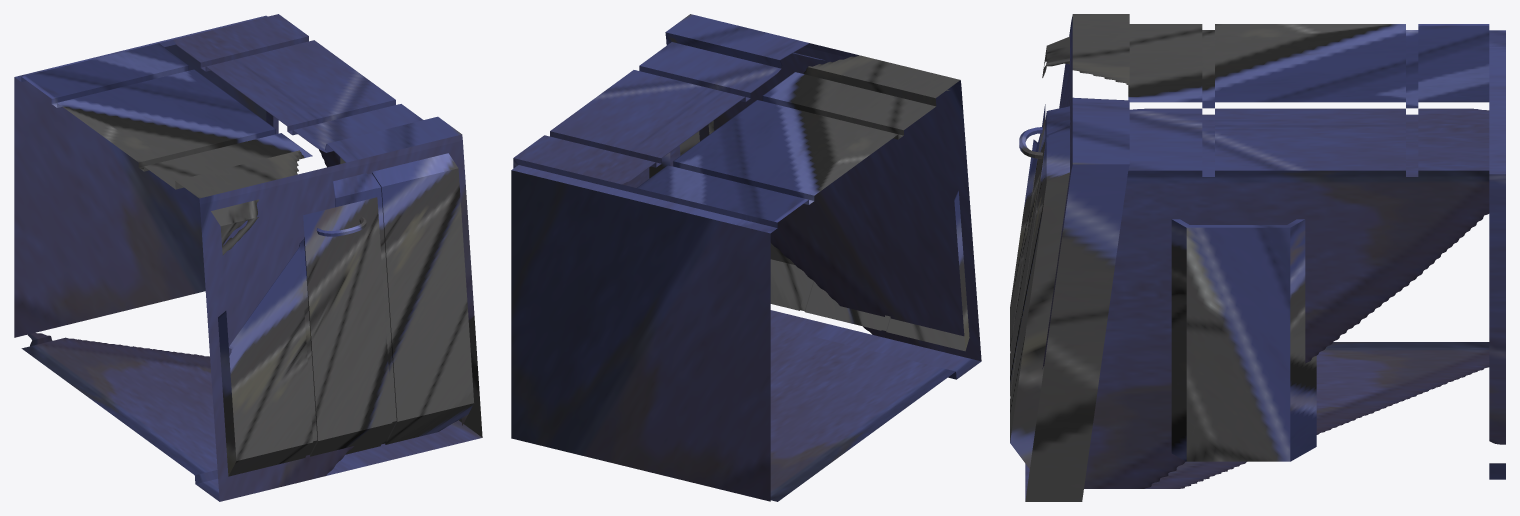
3 views of the same model, side by side, from view 1: azimuth 30°, elevation 25°; view 2: azimuth 150°, elevation 25°; view 3: azimuth 270°, elevation 25° (orthographic). The views are drawn at different scales.
Bounding box in the file's own units: 0.9363 × 0.9489 × 1.26.
